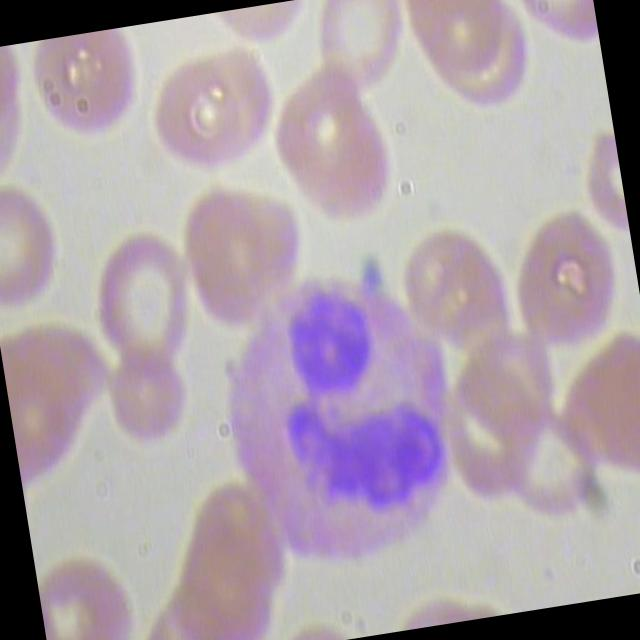RBC: (167, 177, 316, 339), (137, 36, 286, 192), (501, 205, 628, 374), (264, 73, 401, 227), (392, 220, 516, 372), (84, 226, 204, 380), (23, 27, 147, 152), (33, 537, 144, 640), (307, 0, 417, 102), (101, 349, 194, 458), (0, 177, 65, 324)
WBC: (200, 261, 474, 588)
